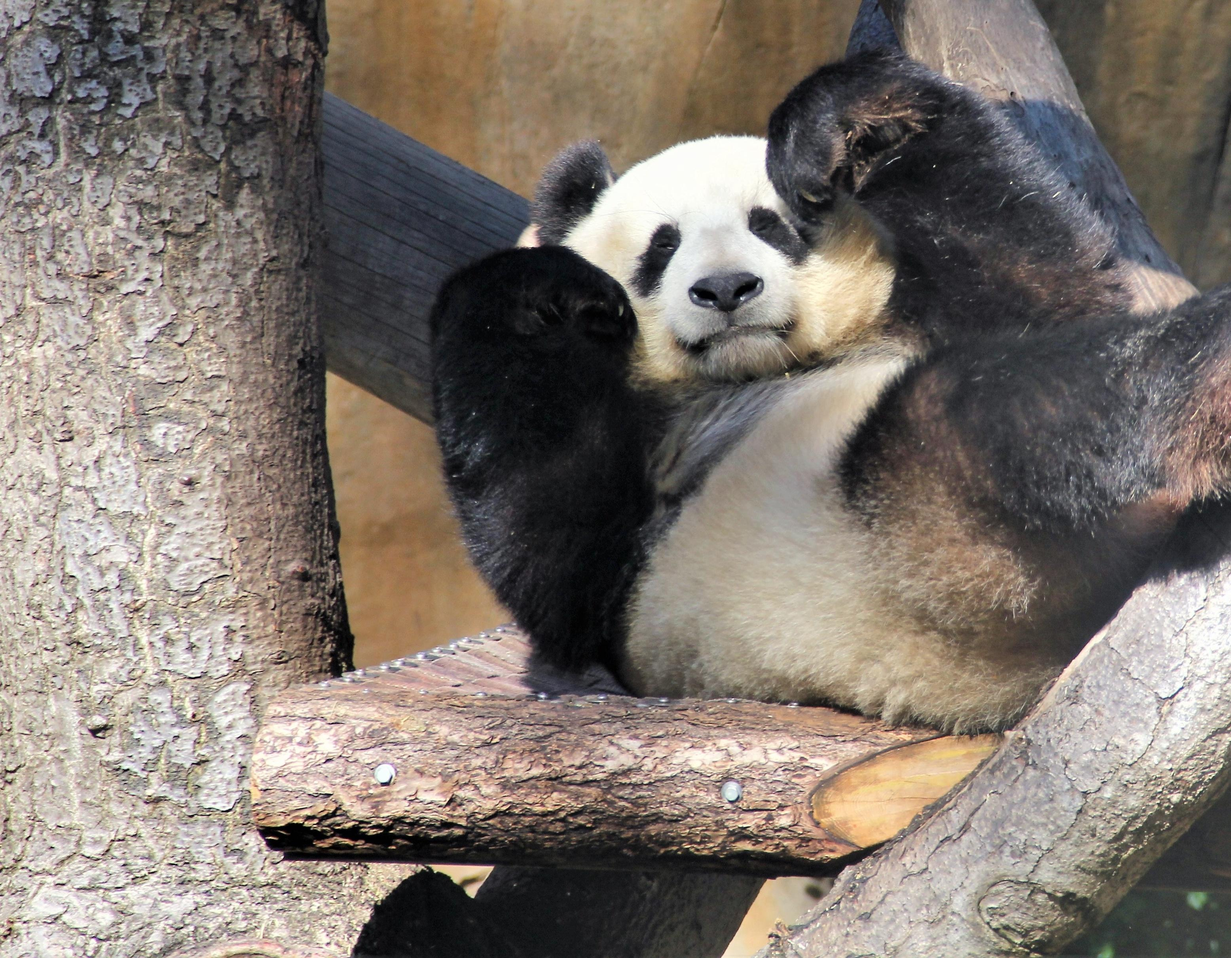panda: (438, 52, 1231, 737)
